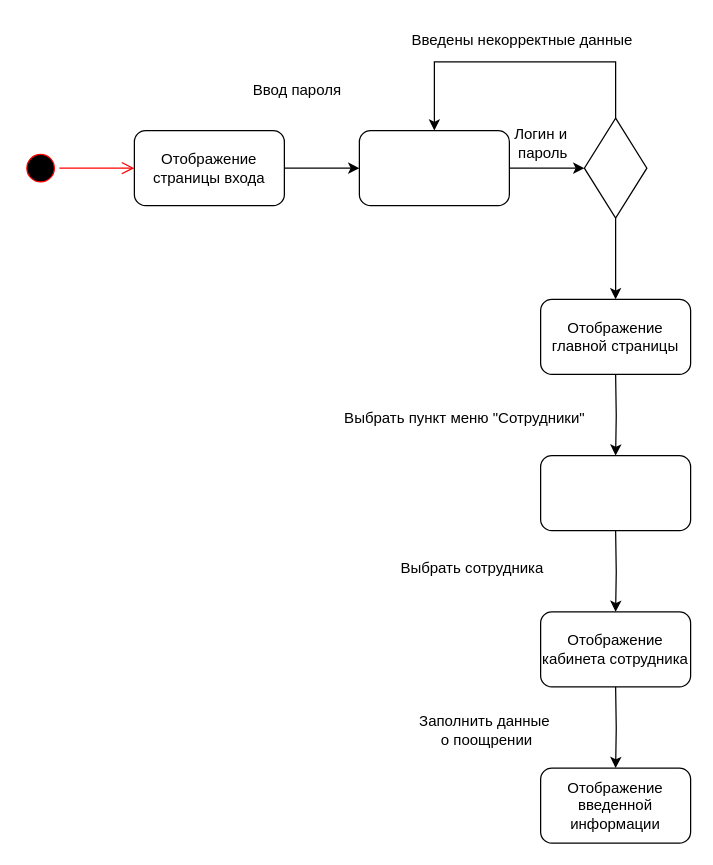
Some shapes in this 713 by 865 pixel diagram are drawn without their labels. The centre of each missing label's shape, as x and y in pixels:
Аутефикация: the point at 433,167
Отображение страницы сотрудников: the point at 615,492
